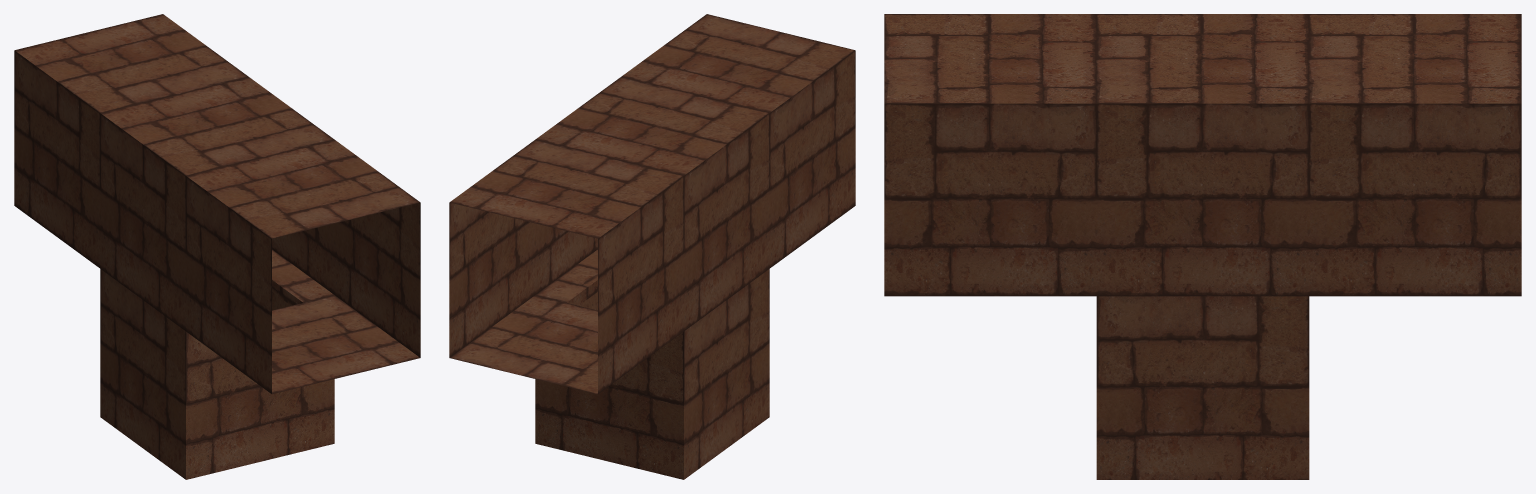
Rendered from TrapSmallNoSpikes.fbx.
3 renders of one model, left to right at view 1: azimuth 30°, elevation 25°; view 2: azimuth 150°, elevation 25°; view 3: azimuth 270°, elevation 25°, orthographic. The views are drawn at different scales.
Parts seen in each view (by area): view 1: polySurface1, polySurface3; view 2: polySurface1, polySurface3; view 3: polySurface1.
Boxes of the visible parts, bbox=[...] form: polySurface1: bbox=[14, 14, 420, 479]; polySurface3: bbox=[272, 249, 334, 305]; polySurface1: bbox=[449, 14, 855, 479]; polySurface3: bbox=[535, 249, 597, 305]; polySurface1: bbox=[884, 14, 1521, 479].
Size of the model in its own units: 66.08 by 198 by 129.
